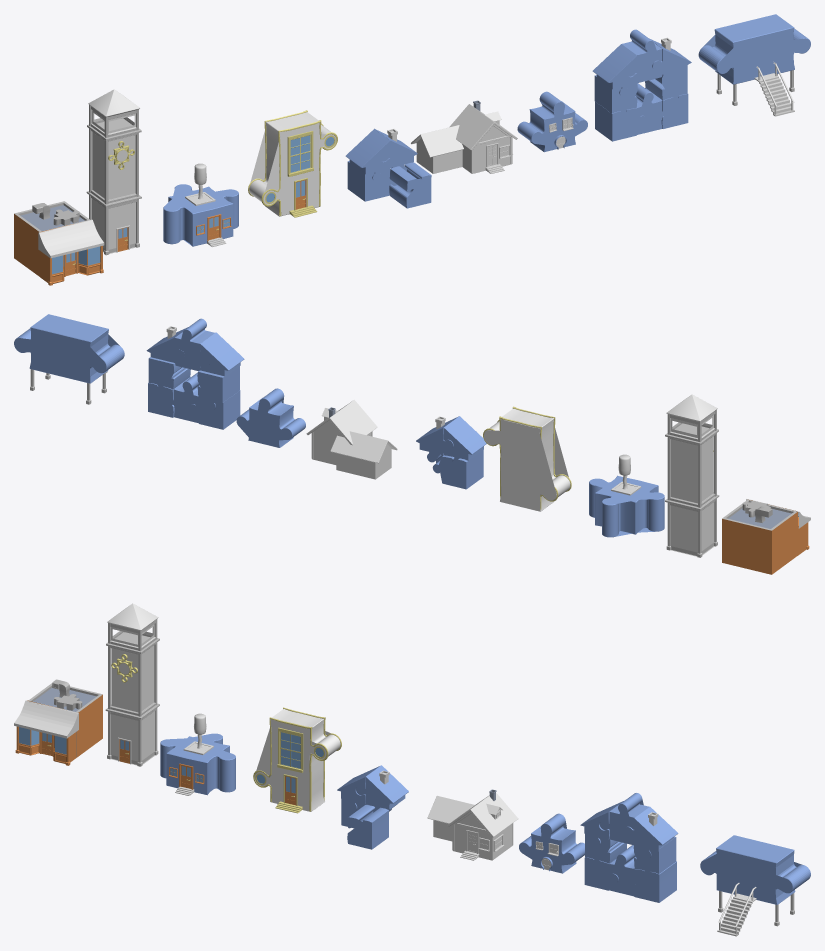
Rendered from TownHouses.fbx.
3 views of the same model, one above another, from view 1: azimuth 30°, elevation 25°; view 2: azimuth 150°, elevation 25°; view 3: azimuth 330°, elevation 25° (orthographic).
Visible parts, largest first — view 1: Cube, Cube.032, Cube.020, Cube.018, Cube.009, Cube.002, WeirdThingy.001, Cube.013, Cube.006, Cube.012, Cube.025, Cube.004 (+15 smaller); view 2: Cube, Cube.020, Cube.032, Cube.002, Cube.018, Cube.009, WeirdThingy.001, Cube.012, Cube.005, Cube.031, Cube.004, Cube.029 (+9 smaller); view 3: Cube, Cube.032, Cube.020, Cube.018, Cube.009, Cube.002, Cube.013, Cube.006, Cube.016, Cube.012, Cube.003, Cube.027 (+14 smaller).
Boxes of the visible parts, x1,y1,x2,y2 form: Cube: (86, 89, 141, 253); Cube.032: (698, 14, 810, 84); Cube.020: (249, 112, 336, 216); Cube.018: (163, 184, 238, 246); Cube.009: (517, 91, 587, 152); Cube.002: (14, 201, 89, 276); WeirdThingy.001: (411, 125, 463, 173); Cube.013: (38, 219, 104, 258); Cube.006: (389, 162, 431, 208); Cube.012: (89, 105, 139, 255); Cube.025: (592, 44, 637, 96); Cube.004: (345, 129, 390, 181); Cube: (665, 394, 719, 556); Cube.020: (483, 408, 570, 511); Cube.032: (14, 314, 124, 383); Cube.002: (722, 500, 797, 574); Cube.018: (589, 475, 664, 537); Cube.009: (236, 388, 305, 447); WeirdThingy.001: (330, 431, 397, 479); Cube.012: (666, 409, 717, 557); Cube.005: (432, 450, 483, 489); Cube.031: (175, 318, 214, 371); Cube.004: (443, 416, 486, 460); Cube.029: (197, 366, 239, 410); Cube: (105, 603, 159, 765); Cube.032: (700, 835, 810, 904); Cube.020: (254, 709, 340, 811); Cube.018: (160, 733, 235, 795); Cube.009: (519, 813, 584, 873); Cube.002: (28, 683, 102, 757); Cube.013: (14, 700, 78, 738); Cube.006: (347, 805, 388, 849); Cube.016: (624, 807, 678, 858); Cube.012: (107, 619, 158, 766); Cube.003: (356, 765, 408, 810); Cube.027: (633, 861, 676, 902).
Bounding box in the file's own units: 15741 × 3024 × 1707.
